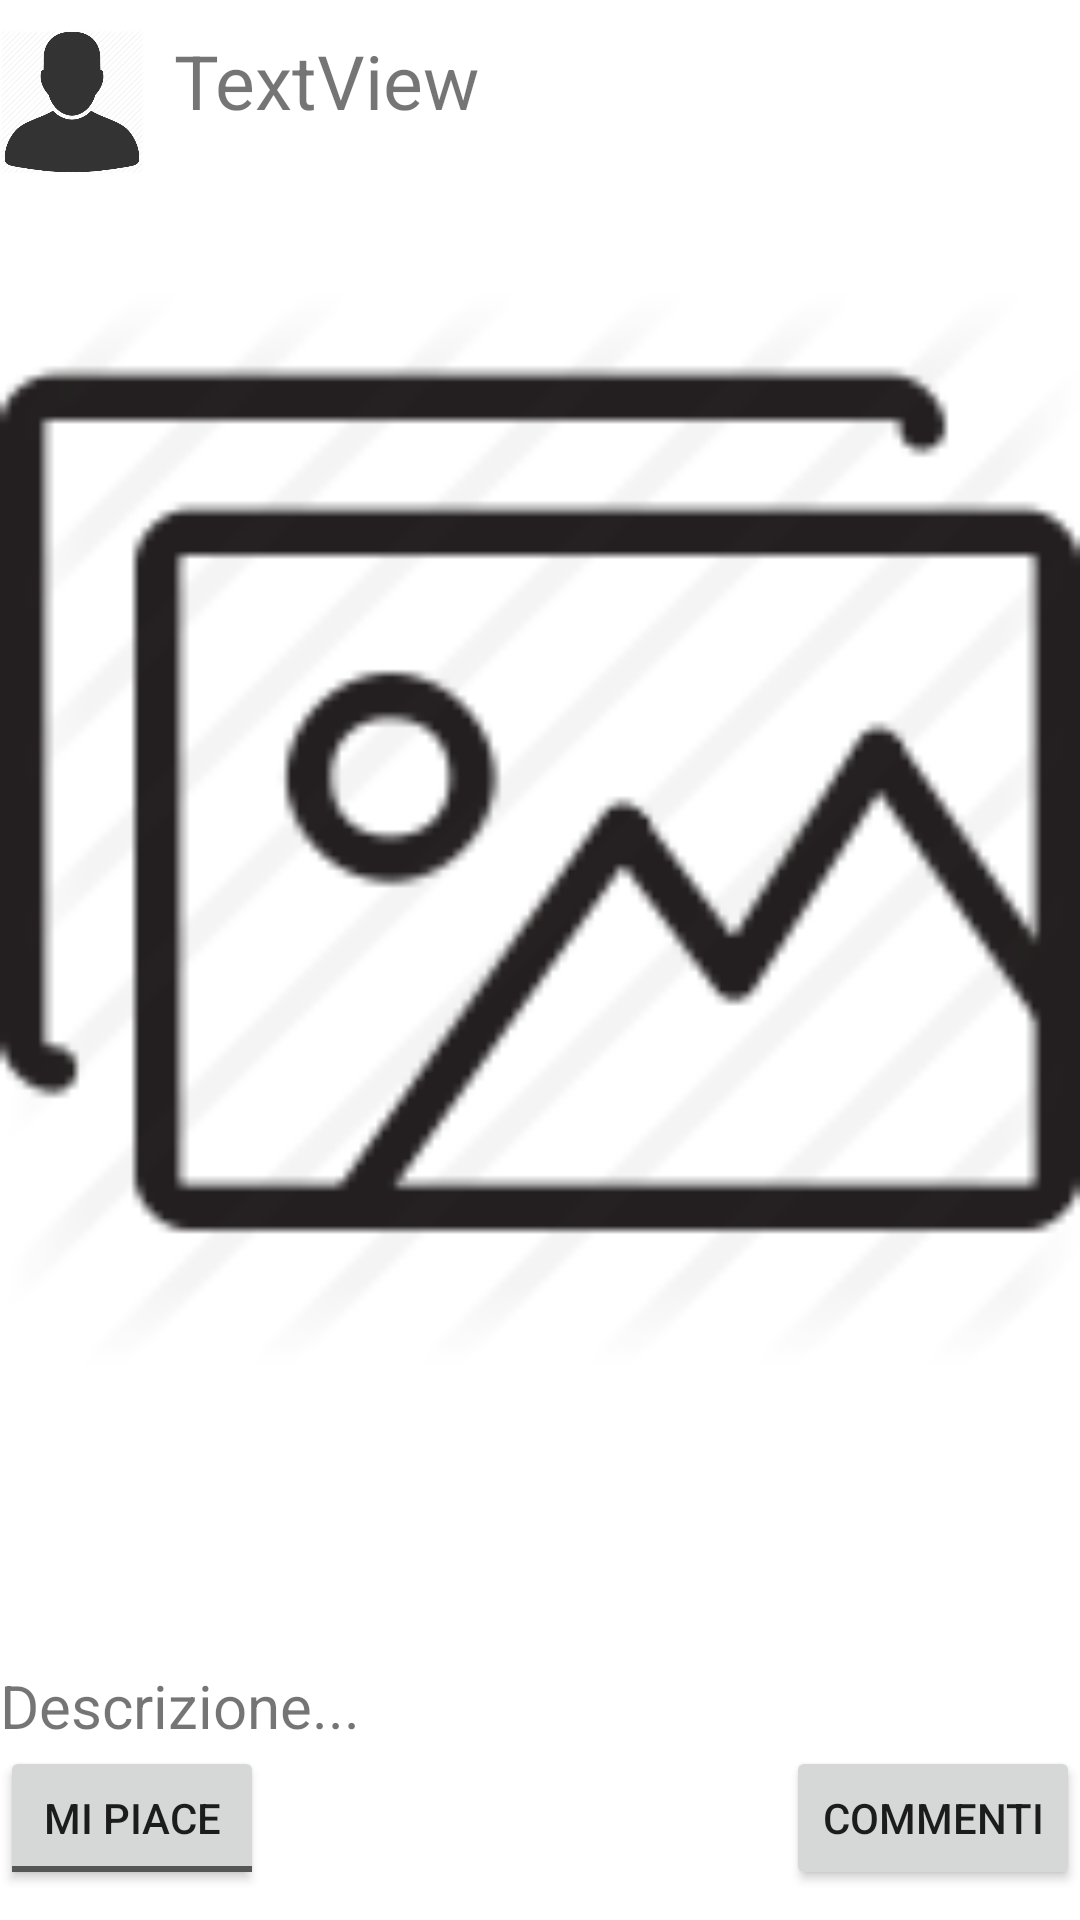

Point at icon controls on the screen. Image size 1080×1920, points as (x=x, y=y).
fotoprofilodef: (x=72, y=102)
